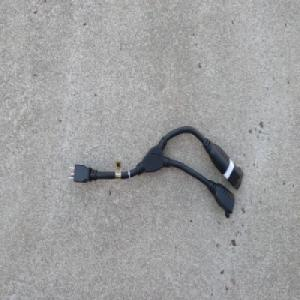Wire: (67, 124, 244, 219)
